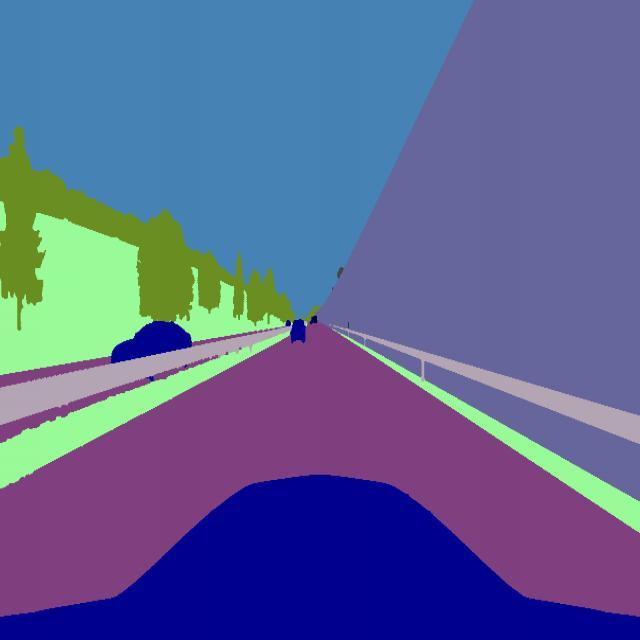safe: (110, 317, 196, 361), (288, 316, 308, 344)
